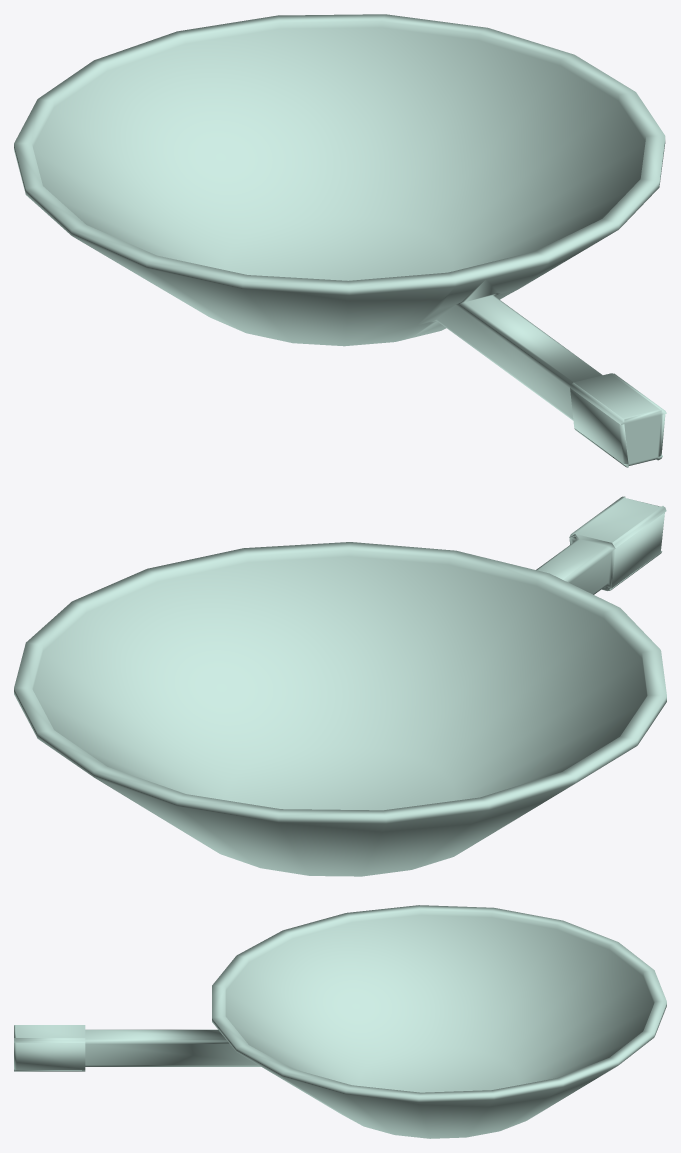
File: wok.glb
The picture shows the model from 3 angles, top to bottom: view 1: azimuth 30°, elevation 25°; view 2: azimuth 150°, elevation 25°; view 3: azimuth 270°, elevation 25°; orthographic projection. The views are drawn at different scales.
Parts seen in each view (by area): view 1: Cylinder; view 2: Cylinder; view 3: Cylinder.
Boxes of the visible parts, x1,y1,x2,y2 form: Cylinder: [14, 14, 666, 467]; Cylinder: [14, 496, 666, 876]; Cylinder: [14, 905, 666, 1138].
Size of the model in its own units: 0.5111 by 0.1115 by 0.731.
